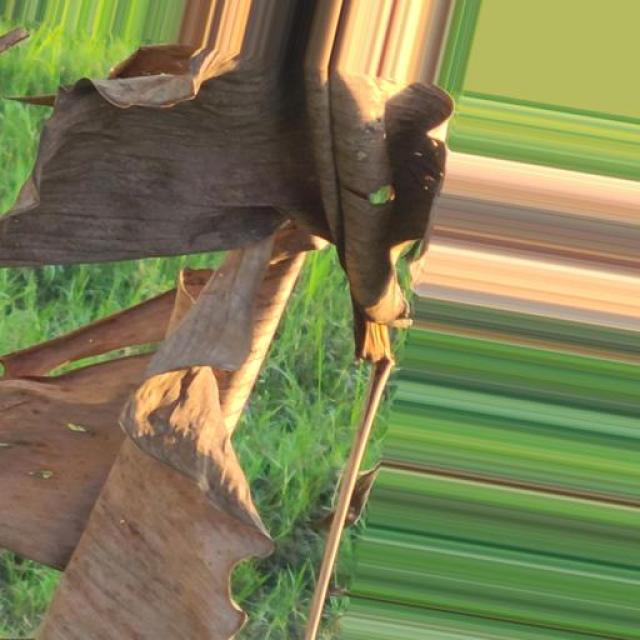Bract_mosaic_virus: (2, 0, 496, 338), (0, 332, 391, 640)
